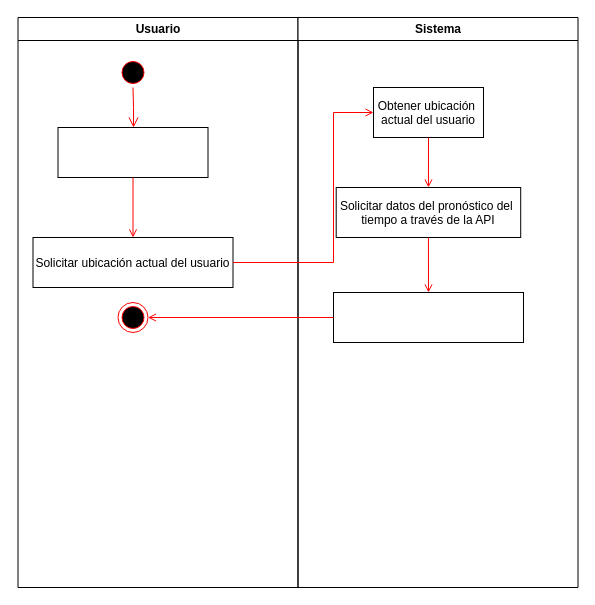
The diagram is 595 pixels wide and 605 high, and some of its shapes have lost their labels. Each missing label, with the centre of its shape:
Mostrar el pronostico del tiempo al usuario: (x=428, y=317)
Solicitar iniciar sesion: (x=132, y=152)
